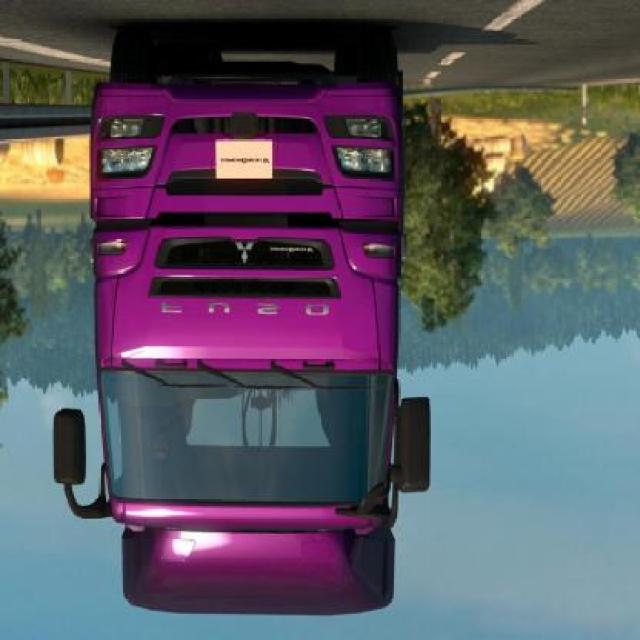truck: (53, 42, 431, 622)
